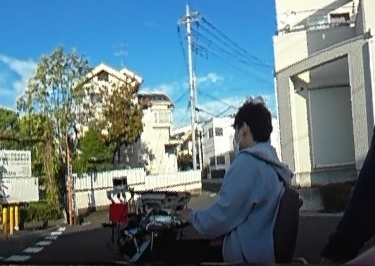person: (213, 96, 294, 266)
